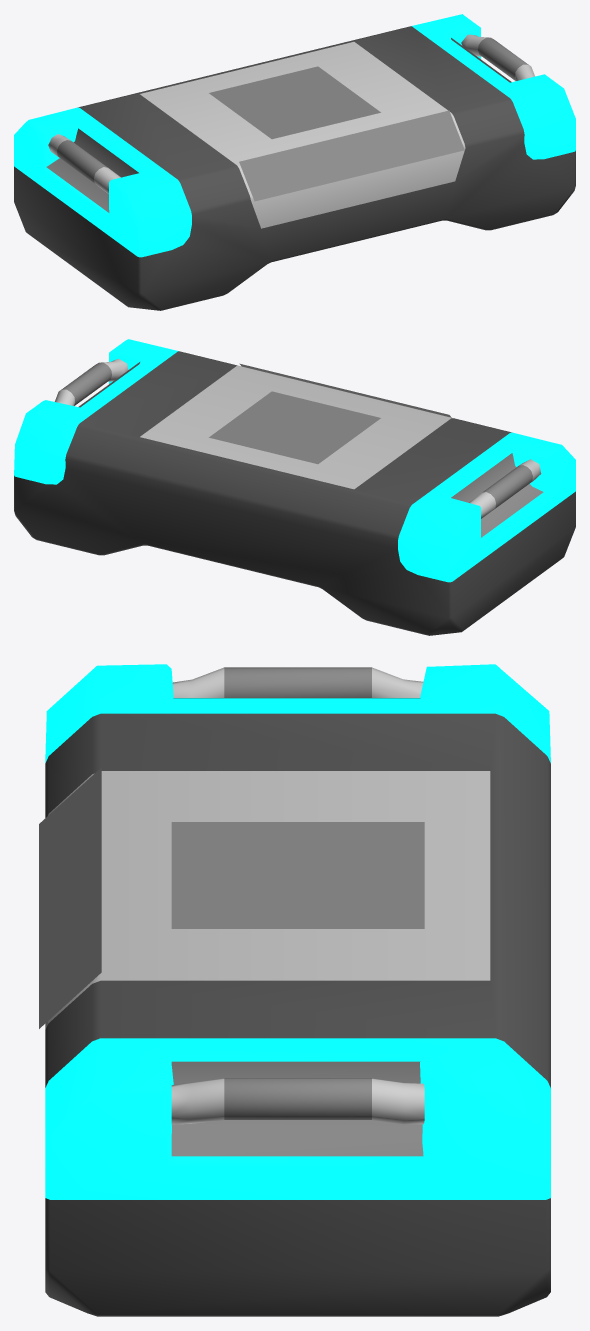
Rendered from FUT0110005.fbx.
3 views of the same model, one above another, from view 1: azimuth 30°, elevation 25°; view 2: azimuth 150°, elevation 25°; view 3: azimuth 270°, elevation 25° (orthographic). The views are drawn at different scales.
Visible parts, largest first — view 1: smFUT0110005; view 2: smFUT0110005; view 3: smFUT0110005.
Boxes of the visible parts, x1,y1,x2,y2 form: smFUT0110005: (14,14,575,310); smFUT0110005: (14,339,575,635); smFUT0110005: (39,664,550,1316).
Size of the model in its own units: 143 by 36.51 by 72.08.
1 material, 1 textured.
